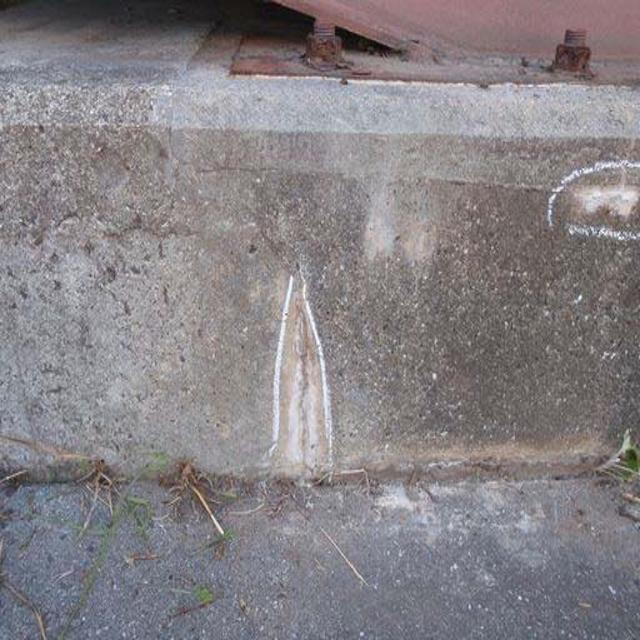freelime: (270, 277, 347, 482)
